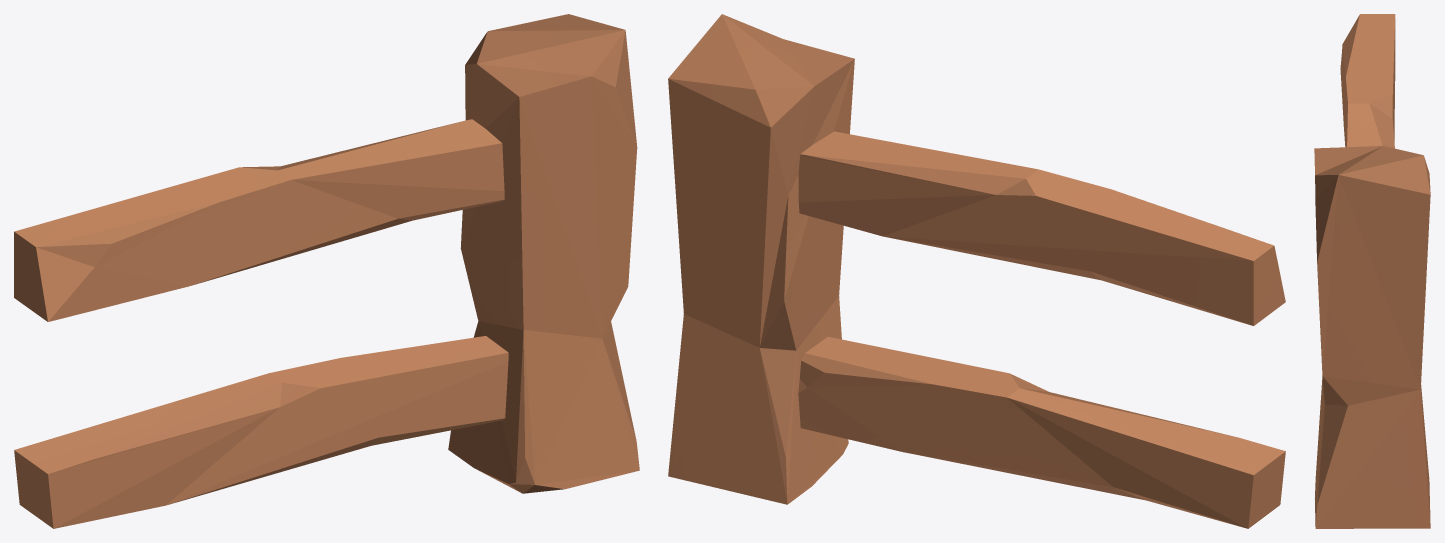
File: Ic_Cit_002.fbx
The picture shows the model from 3 angles, left to right: view 1: azimuth 30°, elevation 25°; view 2: azimuth 150°, elevation 25°; view 3: azimuth 270°, elevation 25°; orthographic projection. The views are drawn at different scales.
Parts seen in each view (by area): view 1: Ic_Cit_002; view 2: Ic_Cit_002; view 3: Ic_Cit_002.
Boxes of the visible parts, x1=… form: Ic_Cit_002: x1=14, y1=14, x2=639, y2=528; Ic_Cit_002: x1=668, y1=14, x2=1285, y2=528; Ic_Cit_002: x1=1314, y1=14, x2=1430, y2=528.
Size of the model in its own units: 55.78 by 39.75 by 11.83.
